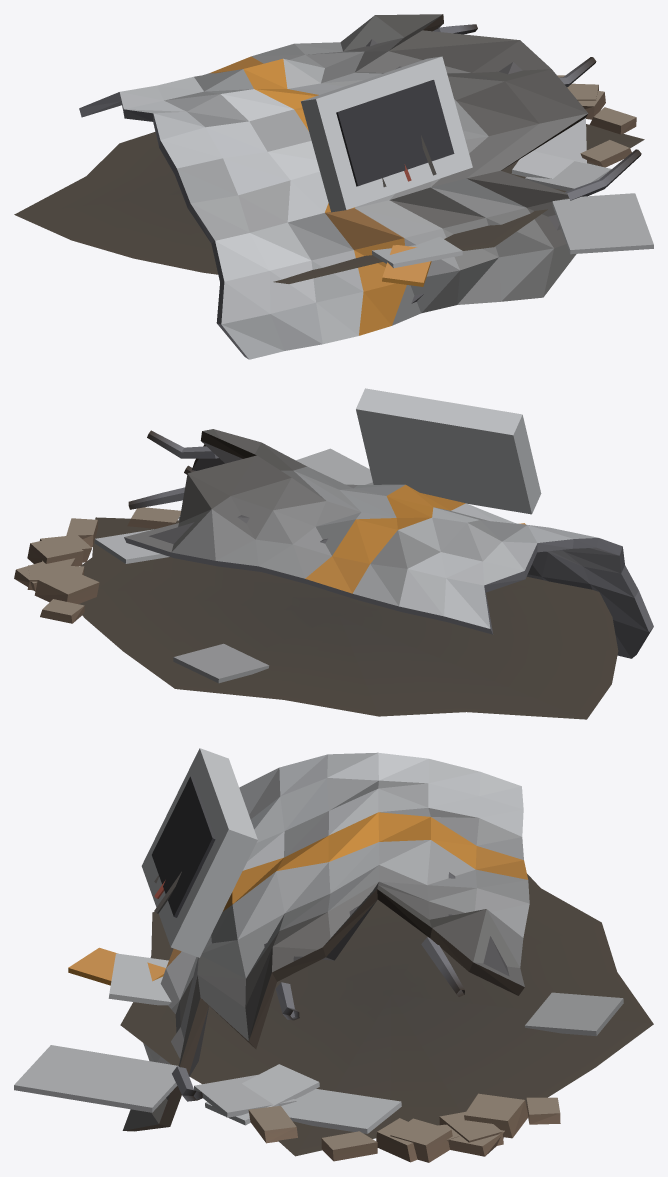
File: wreck_board_searched_a.glb
3 views of the same model, one above another, from view 1: azimuth 30°, elevation 25°; view 2: azimuth 150°, elevation 25°; view 3: azimuth 270°, elevation 25° (orthographic). The views are drawn at different scales.
Parts seen in each view (by area): view 1: wreck_board_searched_a; view 2: wreck_board_searched_a; view 3: wreck_board_searched_a.
Part boxes in pixels (x1,y1,x2,y2): wreck_board_searched_a: (14,14,653,359); wreck_board_searched_a: (14,388,653,719); wreck_board_searched_a: (14,748,653,1162).
Size of the model in its own units: 3.36 by 1.29 by 2.76.
